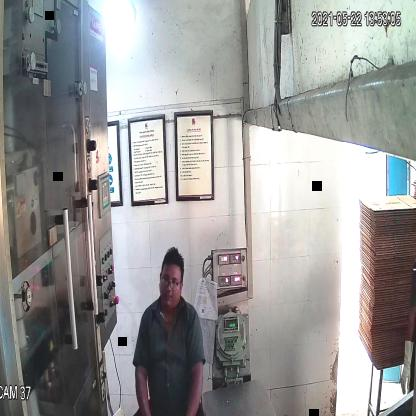goggles: (158, 273, 183, 293)
